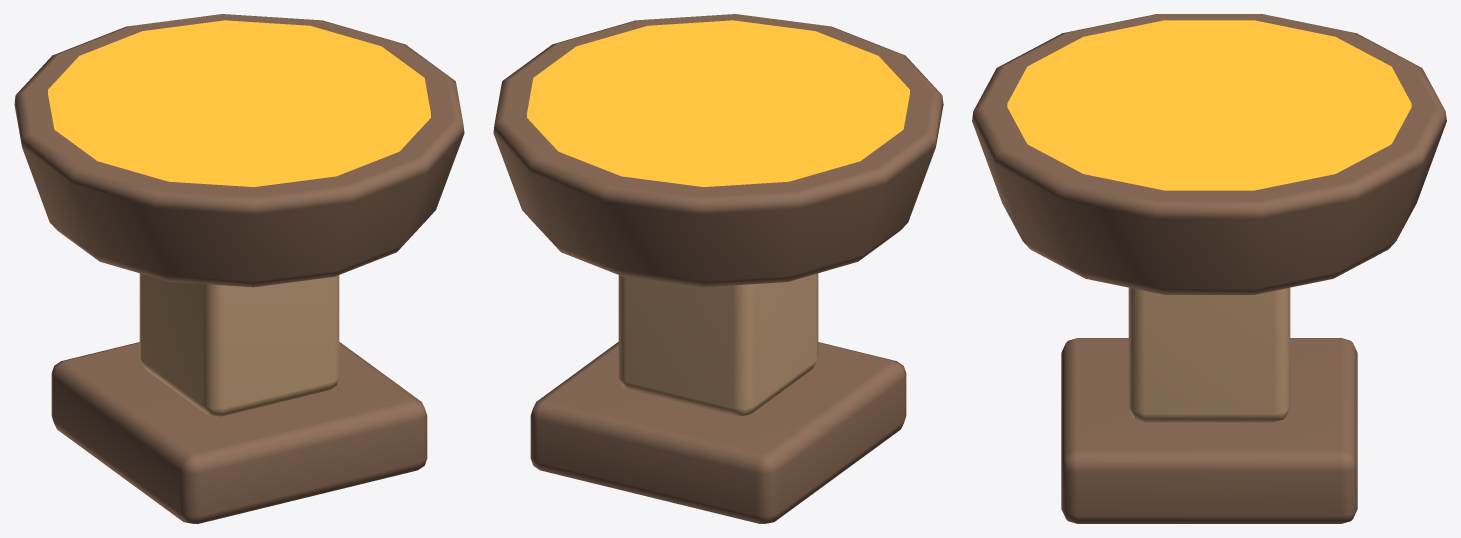
Rendered from jungle_brazier.glb.
The picture shows the model from 3 angles, left to right: view 1: azimuth 30°, elevation 25°; view 2: azimuth 150°, elevation 25°; view 3: azimuth 270°, elevation 25°; orthographic projection. The views are drawn at different scales.
Parts seen in each view (by area): view 1: Brazier; view 2: Brazier; view 3: Brazier.
Part boxes in pixels (box(x1,y1,x2,y2)): Brazier: box(14, 14, 464, 523); Brazier: box(493, 14, 943, 523); Brazier: box(972, 14, 1446, 523).
Size of the model in its own units: 1.72 by 1.49 by 1.76.
